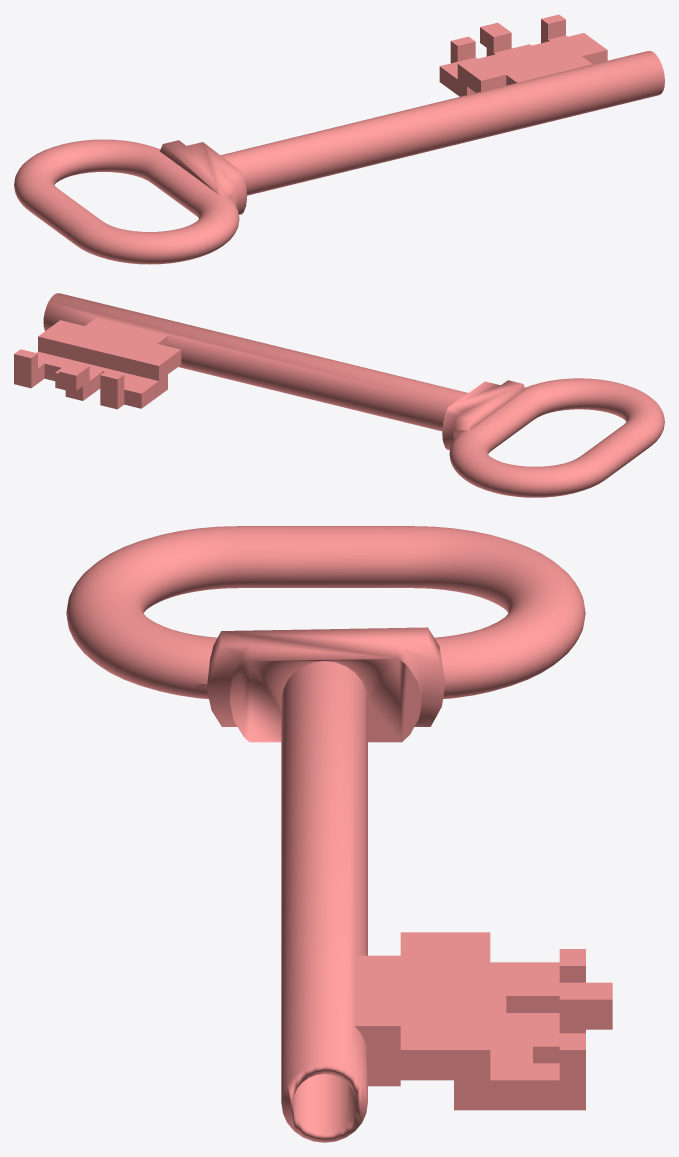
Rendered from pink key.fbx.
3 views of the same model, one above another, from view 1: azimuth 30°, elevation 25°; view 2: azimuth 150°, elevation 25°; view 3: azimuth 270°, elevation 25° (orthographic). The views are drawn at different scales.
Parts seen in each view (by area): view 1: Group1; view 2: Group1; view 3: Group1.
Boxes of the visible parts, x1,y1,x2,y2 form: Group1: (14,14,664,264); Group1: (14,293,664,497); Group1: (66,526,612,1142).
Size of the model in its own units: 7.39 by 0.516 by 3.03.
